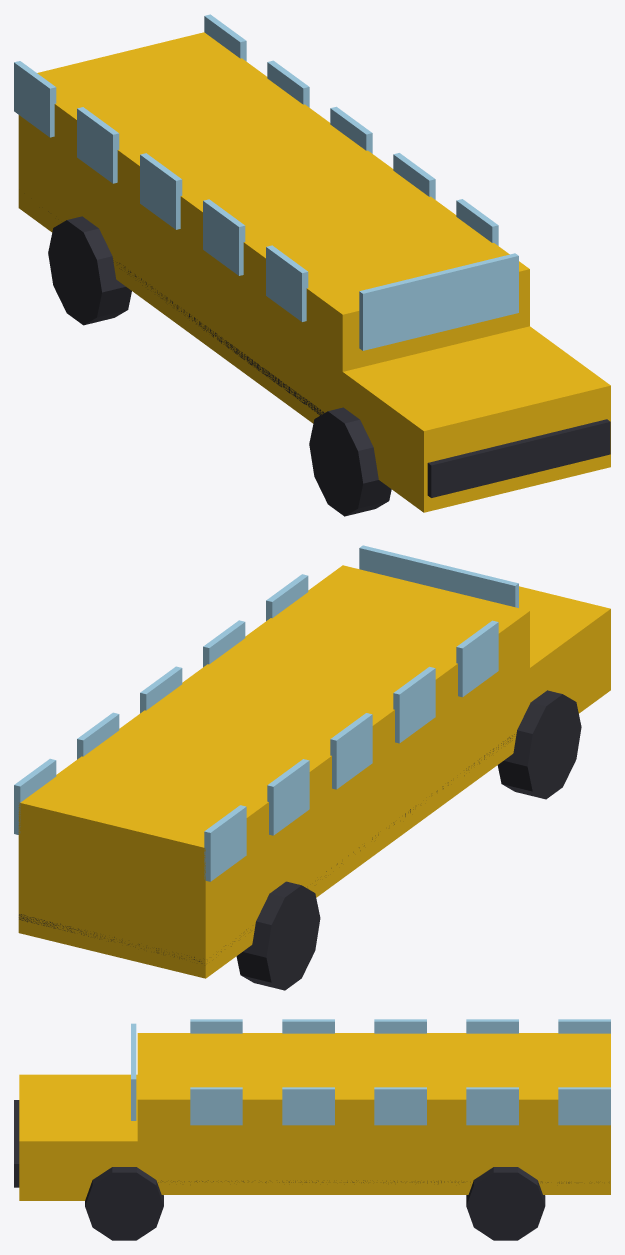
Rendered from school_bus.fbx.
3 views of the same model, one above another, from view 1: azimuth 30°, elevation 25°; view 2: azimuth 150°, elevation 25°; view 3: azimuth 270°, elevation 25° (orthographic). The views are drawn at different scales.
Visible parts, largest first — view 1: school_bus; view 2: school_bus; view 3: school_bus.
Part boxes in pixels (<box>): school_bus: <box>14,14,610,516</box>; school_bus: <box>14,545,610,990</box>; school_bus: <box>14,1019,610,1240</box>.
Size of the model in its own units: 1.4 by 1.26 by 4.54.
